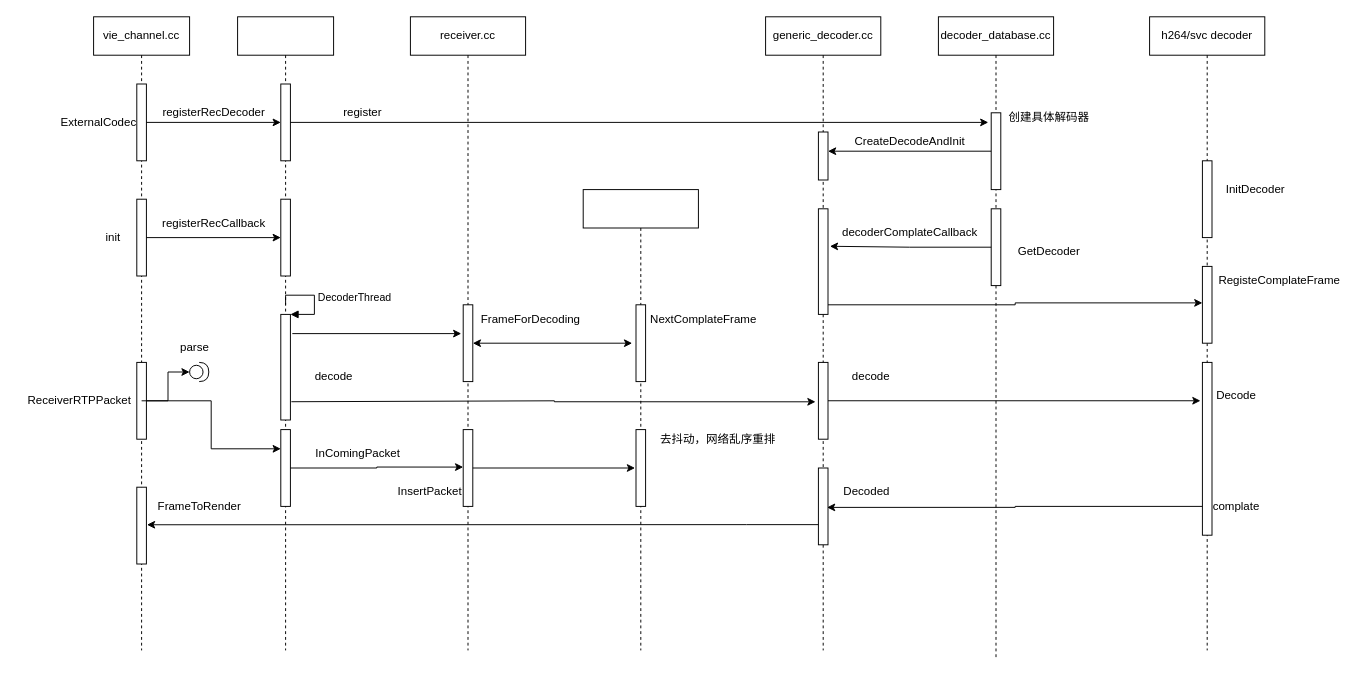
Image size: 1367x677. Some labels were removed from this diagram. Each missing label, with the box of its shape:
jitter_buffer.cc: (582, 189, 698, 650)
video_receive.cc: (237, 16, 334, 650)
